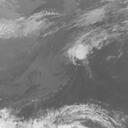cyclone: (67, 22, 125, 69)
